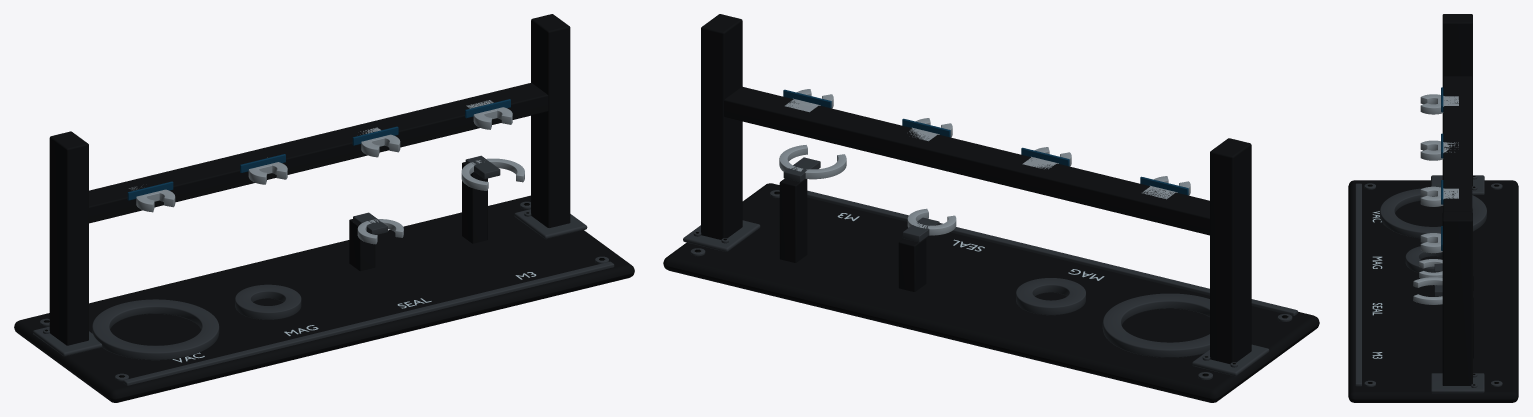
The model's file is tool-magizine.obj.
3 views of the same model, side by side, from view 1: azimuth 30°, elevation 25°; view 2: azimuth 150°, elevation 25°; view 3: azimuth 270°, elevation 25° (orthographic). The views are drawn at different scales.
Parts seen in each view (by area): view 1: Rounded_mounting_base_420_x_140_x_10_mm, Rear_upper_cross_rail, Square_upright, Square_upright.001, Vacuum_cup_nest_OD_8.8_ID_6.4, Front_base_stiffening_lip, Magnetic_tip_nest_OD_4.6_ID_2.4, Dock_4_lower_guide_post, Dock_3_lower_guide_post, Upright_foot_plate.001, Dock_4_individualized_lower_guide, Upright_foot_plate (+1 smaller); view 2: Rounded_mounting_base_420_x_140_x_10_mm, Rear_upper_cross_rail, Square_upright, Square_upright.001, Vacuum_cup_nest_OD_8.8_ID_6.4, Front_base_stiffening_lip, Dock_4_lower_guide_post, Magnetic_tip_nest_OD_4.6_ID_2.4, Dock_3_lower_guide_post, Dock_4_individualized_lower_guide, Upright_foot_plate.001, Upright_foot_plate (+1 smaller); view 3: Rounded_mounting_base_420_x_140_x_10_mm, Square_upright.001, Rear_upper_cross_rail, Square_upright, Vacuum_cup_nest_OD_8.8_ID_6.4, Front_base_stiffening_lip, Upright_foot_plate.001, Magnetic_tip_nest_OD_4.6_ID_2.4, Dock_4_individualized_lower_guide, Dock_2_common_pin_cradle_ID_12.5_mm, Dock_1_common_pin_cradle_ID_12.5_mm, Dock_3_common_pin_cradle_ID_12.5_mm (+5 smaller).
Part boxes in pixels (box(x1,y1,x2,y2)): Rounded_mounting_base_420_x_140_x_10_mm: box(14, 195, 634, 402); Rear_upper_cross_rail: box(89, 83, 548, 223); Square_upright: box(49, 131, 88, 345); Square_upright.001: box(531, 14, 570, 227); Vacuum_cup_nest_OD_8.8_ID_6.4: box(92, 299, 219, 360); Front_base_stiffening_lip: box(123, 261, 614, 385); Magnetic_tip_nest_OD_4.6_ID_2.4: box(235, 284, 301, 319); Dock_4_lower_guide_post: box(462, 162, 487, 243); Dock_3_lower_guide_post: box(349, 219, 375, 271); Upright_foot_plate.001: box(514, 209, 587, 239); Dock_4_individualized_lower_guide: box(461, 158, 524, 190); Upright_foot_plate: box(33, 326, 102, 356); Rounded_mounting_base_420_x_140_x_10_mm: box(663, 183, 1319, 402); Rear_upper_cross_rail: box(724, 86, 1209, 235); Square_upright: box(1210, 138, 1251, 363); Square_upright.001: box(701, 14, 742, 239); Vacuum_cup_nest_OD_8.8_ID_6.4: box(1102, 293, 1209, 357); Front_base_stiffening_lip: box(779, 187, 1297, 315); Dock_4_lower_guide_post: box(779, 178, 807, 262); Magnetic_tip_nest_OD_4.6_ID_2.4: box(1016, 278, 1085, 315); Dock_3_lower_guide_post: box(898, 238, 926, 291); Dock_4_individualized_lower_guide: box(779, 145, 846, 179); Upright_foot_plate.001: box(683, 220, 760, 251); Upright_foot_plate: box(1192, 344, 1269, 376); Rounded_mounting_base_420_x_140_x_10_mm: box(1348, 180, 1518, 402); Square_upright.001: box(1442, 211, 1472, 385); Rear_upper_cross_rail: box(1443, 76, 1472, 211); Square_upright: box(1442, 14, 1472, 186); Vacuum_cup_nest_OD_8.8_ID_6.4: box(1380, 188, 1486, 238); Front_base_stiffening_lip: box(1355, 183, 1361, 386); Upright_foot_plate.001: box(1431, 373, 1484, 393); Magnetic_tip_nest_OD_4.6_ID_2.4: box(1405, 246, 1442, 272); Dock_4_individualized_lower_guide: box(1413, 277, 1442, 304); Dock_2_common_pin_cradle_ID_12.5_mm: box(1420, 140, 1449, 160); Dock_1_common_pin_cradle_ID_12.5_mm: box(1420, 94, 1449, 114); Dock_3_common_pin_cradle_ID_12.5_mm: box(1420, 186, 1449, 206).
Size of the model in its own units: 0.42 by 0.1635 by 0.14.
